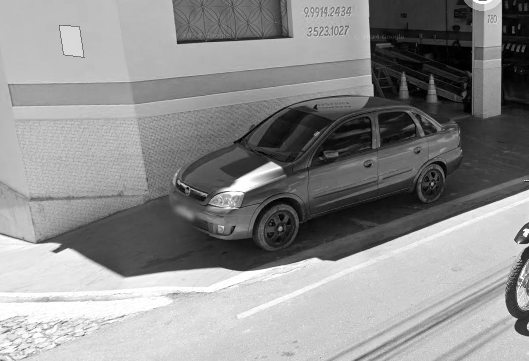car: (167, 89, 465, 263)
